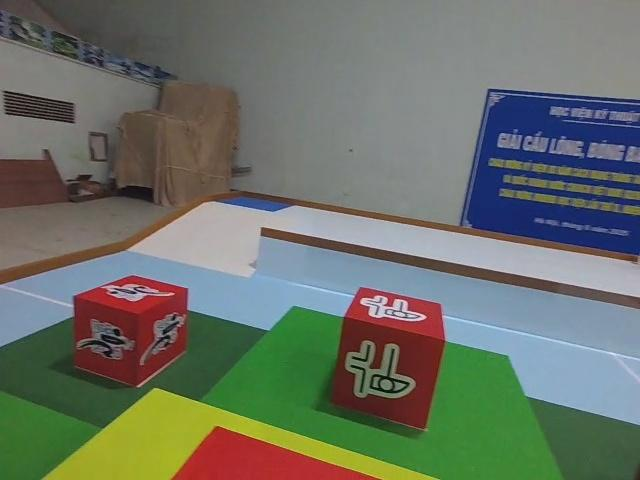R1: (72, 272, 189, 389)
R2 Real: (331, 285, 447, 430)
